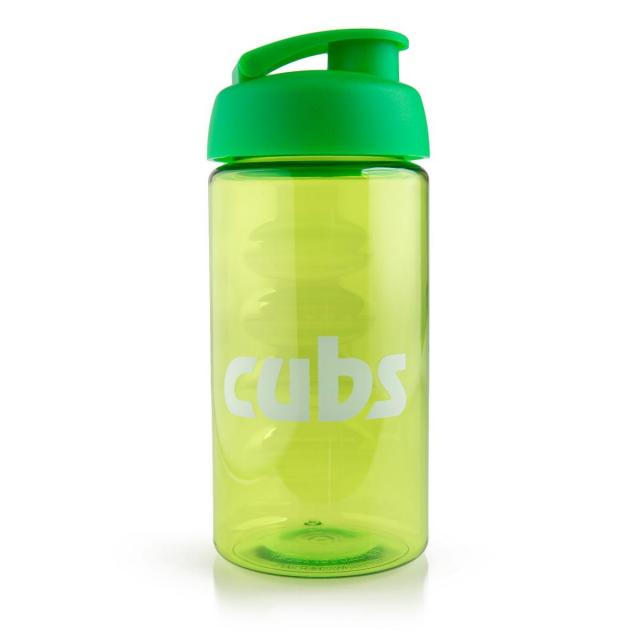plastic_bottle: (216, 29, 428, 558)
